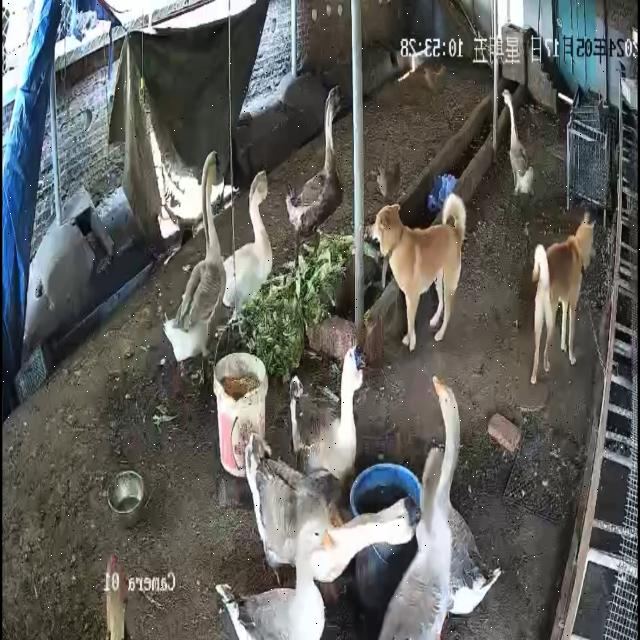dog: (372, 193, 468, 354), (531, 211, 597, 387)
